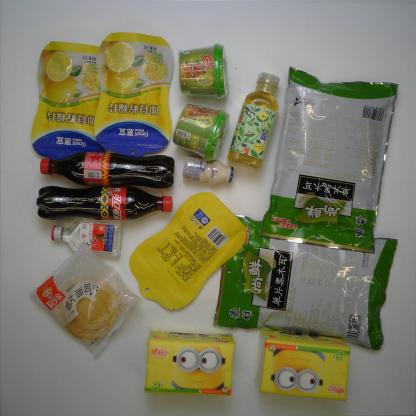Alcohol: (45, 214, 131, 258)
Dessert: (26, 241, 146, 360)
Dried Food: (258, 57, 401, 258), (209, 210, 398, 356)
Dried Fruit: (125, 190, 252, 313), (29, 37, 117, 164), (92, 27, 176, 160)
Drink: (225, 63, 284, 174), (34, 145, 178, 190), (27, 183, 178, 222)
Instant Drink: (168, 98, 233, 164), (172, 41, 234, 102)
Milk: (180, 150, 236, 188)
Tissue: (250, 325, 365, 407), (139, 324, 236, 403)
